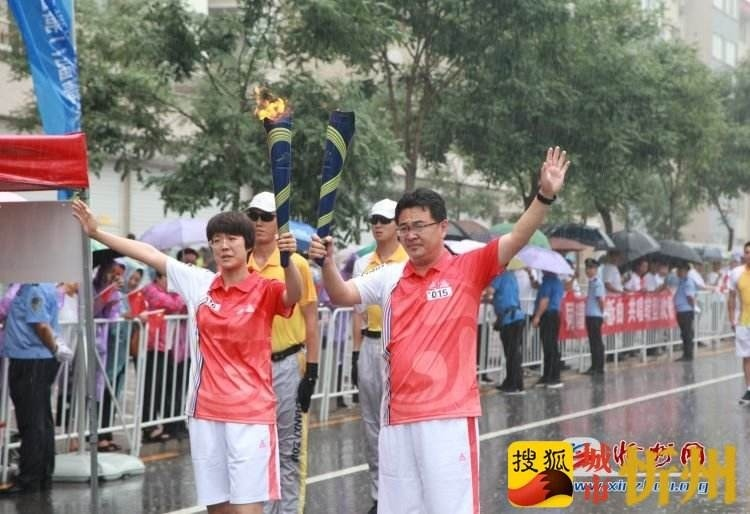fire: (250, 82, 289, 121)
